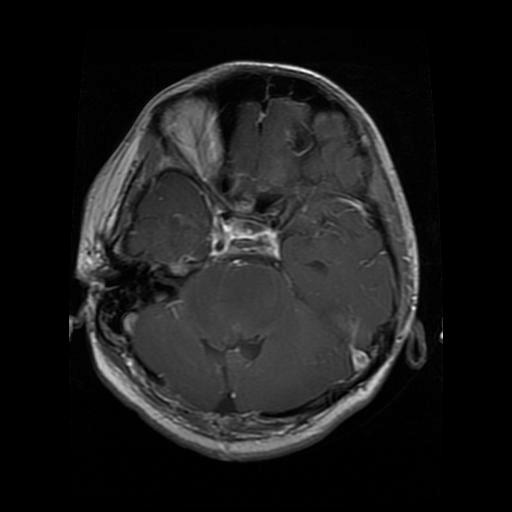Tumour-Glioma: (159, 93, 247, 202)
